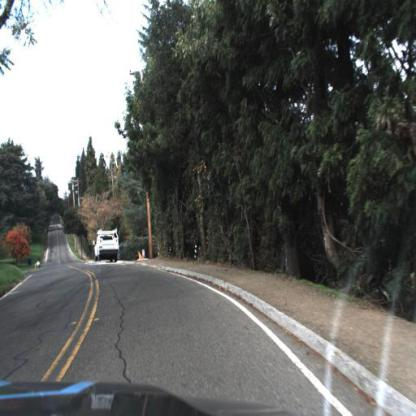car: (89, 225, 123, 261), (92, 231, 121, 263)
